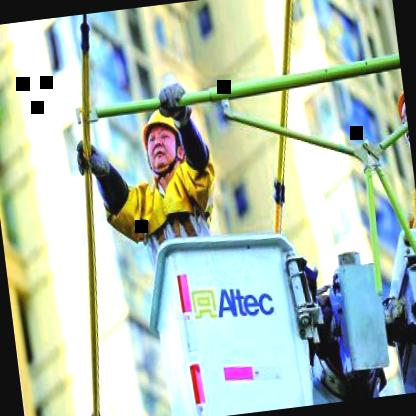helmet: (132, 100, 190, 180), (388, 78, 412, 160)
